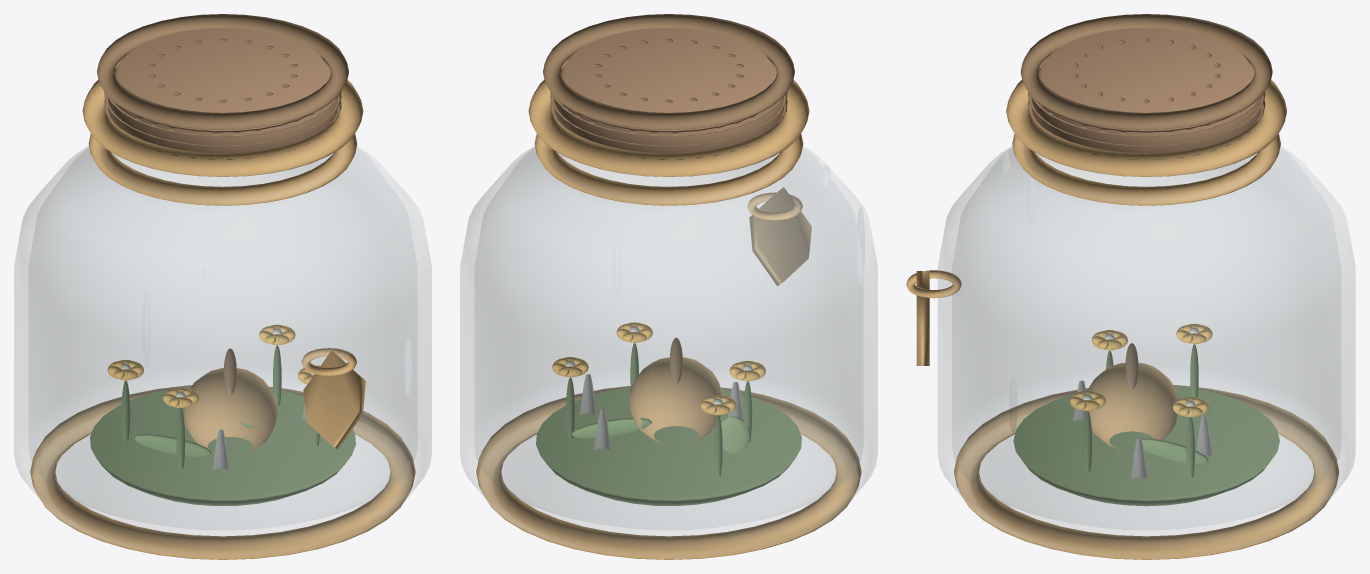
File: jar_03_candle.glb
3 views of the same model, side by side, from view 1: azimuth 30°, elevation 25°; view 2: azimuth 150°, elevation 25°; view 3: azimuth 270°, elevation 25° (orthographic).
Parts seen in each view (by area): view 1: Outer glass wall, Inner glass wall, Natural cork stopper, Soft moss and earth bed, Foot brass ring, Stopper top binding, Stopper retaining ring, Neck collar, Ivory beeswax votive, Unlabeled flame charm, Cork grain (×2), Pressed botanical leaf (+1 smaller); view 2: Outer glass wall, Inner glass wall, Natural cork stopper, Soft moss and earth bed, Foot brass ring, Stopper top binding, Stopper retaining ring, Neck collar, Ivory beeswax votive, Unlabeled flame charm, Pressed botanical leaf (×2), Cork grain (×2) (+1 smaller); view 3: Outer glass wall, Inner glass wall, Natural cork stopper, Soft moss and earth bed, Foot brass ring, Stopper top binding, Stopper retaining ring, Neck collar, Ivory beeswax votive, Unlabeled flame charm, Cork grain, Pressed botanical leaf (+1 smaller).
Part boxes in pixels (left/top/right/bottom): Outer glass wall: left=14, top=145, right=431, bottom=557; Inner glass wall: left=29, top=148, right=416, bottom=529; Natural cork stopper: left=108, top=28, right=337, bottom=159; Soft moss and earth bed: left=90, top=386, right=355, bottom=505; Foot brass ring: left=30, top=385, right=415, bottom=559; Stopper top binding: left=97, top=14, right=348, bottom=129; Stopper retaining ring: left=82, top=80, right=363, bottom=176; Neck collar: left=88, top=134, right=357, bottom=205; Ivory beeswax votive: left=183, top=368, right=277, bottom=455; Unlabeled flame charm: left=303, top=350, right=365, bottom=449; Cork grain (×2): left=104, top=55, right=341, bottom=146; Pressed botanical leaf: left=134, top=434, right=211, bottom=457; Outer glass wall: left=460, top=145, right=877, bottom=557; Inner glass wall: left=475, top=148, right=862, bottom=529; Natural cork stopper: left=554, top=28, right=783, bottom=159; Soft moss and earth bed: left=536, top=387, right=801, bottom=505; Foot brass ring: left=476, top=386, right=861, bottom=559; Stopper top binding: left=543, top=14, right=794, bottom=129; Stopper retaining ring: left=528, top=80, right=809, bottom=176; Neck collar: left=534, top=134, right=803, bottom=205; Ivory beeswax votive: left=628, top=357, right=722, bottom=444; Unlabeled flame charm: left=749, top=187, right=811, bottom=285; Pressed botanical leaf (×2): left=571, top=416, right=749, bottom=453; Cork grain (×2): left=550, top=55, right=787, bottom=146; Outer glass wall: left=938, top=145, right=1355, bottom=557; Inner glass wall: left=952, top=148, right=1340, bottom=529; Natural cork stopper: left=1031, top=27, right=1261, bottom=159; Soft moss and earth bed: left=1013, top=386, right=1279, bottom=506; Foot brass ring: left=954, top=385, right=1339, bottom=559; Stopper top binding: left=1020, top=14, right=1272, bottom=129; Stopper retaining ring: left=1006, top=80, right=1286, bottom=176; Neck collar: left=1012, top=134, right=1280, bottom=205; Ivory beeswax votive: left=1085, top=362, right=1177, bottom=449; Unlabeled flame charm: left=916, top=271, right=929, bottom=365; Cork grain: left=1030, top=54, right=1262, bottom=136; Pressed botanical leaf: left=1136, top=438, right=1208, bottom=464.
Size of the model in its own units: 1.14 by 1.28 by 1.22.
